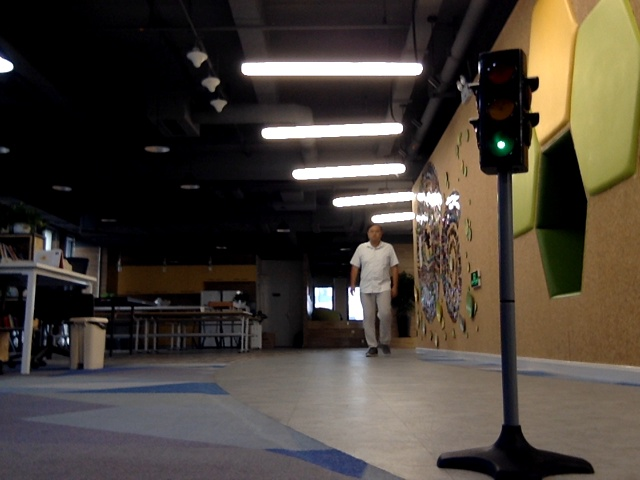green: (485, 59, 520, 166)
